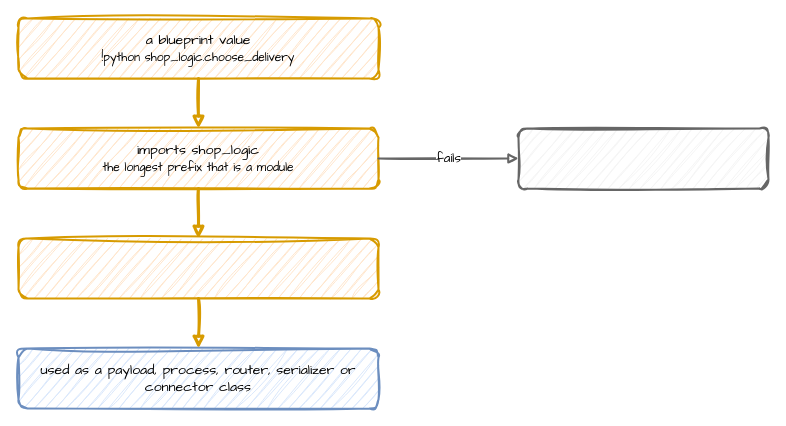
Image size: 786x426. Some labels were removed from this diagram. The centre of each missing label's shape, as x and y in pixels:
"BlueprintError no such module, or no such attribute" belongs at point (643, 158).
"returns choose_delivery" belongs at point (198, 268).
